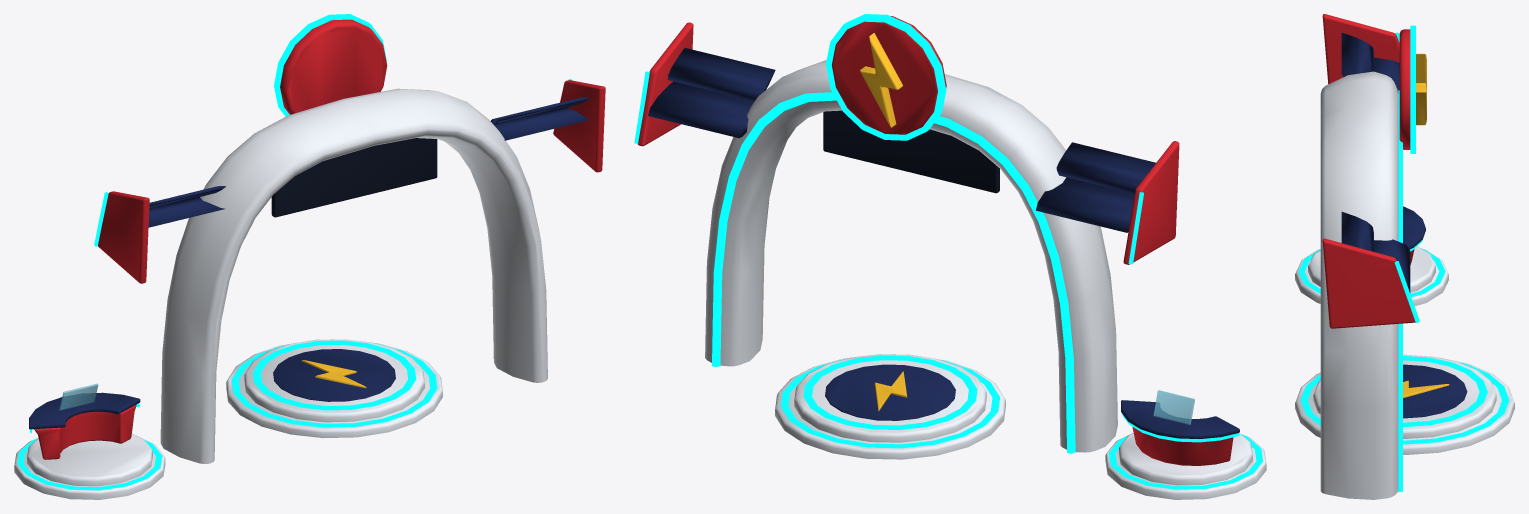
Rendered from RaceLobbyBooth.fbx.
3 renders of one model, left to right at view 1: azimuth 30°, elevation 25°; view 2: azimuth 150°, elevation 25°; view 3: azimuth 270°, elevation 25°, orthographic. The views are drawn at different scales.
Visible parts, largest first — view 1: RaceLobbyBooth__Base, RaceLobbyBooth__Red, RaceLobbyBooth__Trim, RaceLobbyBooth__Panel, RaceLobbyBooth__Accent, RaceLobbyBooth__Glass, RaceLobbyBooth__Gold; view 2: RaceLobbyBooth__Base, RaceLobbyBooth__Trim, RaceLobbyBooth__Red, RaceLobbyBooth__Accent, RaceLobbyBooth__Panel, RaceLobbyBooth__Gold, RaceLobbyBooth__Glass; view 3: RaceLobbyBooth__Base, RaceLobbyBooth__Red, RaceLobbyBooth__Trim, RaceLobbyBooth__Accent, RaceLobbyBooth__Gold.
Part boxes in pixels (x1=…): RaceLobbyBooth__Base: x1=14, y1=88, x2=547, y2=499; RaceLobbyBooth__Red: x1=34, y1=19, x2=605, y2=459; RaceLobbyBooth__Trim: x1=29, y1=97, x2=589, y2=429; RaceLobbyBooth__Panel: x1=271, y1=138, x2=437, y2=217; RaceLobbyBooth__Accent: x1=17, y1=14, x2=572, y2=490; RaceLobbyBooth__Glass: x1=59, y1=383, x2=98, y2=410; RaceLobbyBooth__Gold: x1=301, y1=360, x2=366, y2=388; RaceLobbyBooth__Base: x1=705, y1=60, x2=1266, y2=499; RaceLobbyBooth__Trim: x1=648, y1=48, x2=1239, y2=438; RaceLobbyBooth__Red: x1=638, y1=16, x2=1233, y2=465; RaceLobbyBooth__Accent: x1=634, y1=14, x2=1263, y2=489; RaceLobbyBooth__Panel: x1=823, y1=110, x2=999, y2=193; RaceLobbyBooth__Gold: x1=860, y1=33, x2=907, y2=411; RaceLobbyBooth__Glass: x1=1153, y1=390, x2=1194, y2=424; RaceLobbyBooth__Base: x1=1295, y1=71, x2=1514, y2=499; RaceLobbyBooth__Red: x1=1322, y1=14, x2=1415, y2=328; RaceLobbyBooth__Trim: x1=1341, y1=32, x2=1467, y2=418; RaceLobbyBooth__Accent: x1=1298, y1=25, x2=1509, y2=492; RaceLobbyBooth__Gold: x1=1403, y1=53, x2=1449, y2=398.
Size of the model in its own units: 35.68 by 22.73 by 12.
